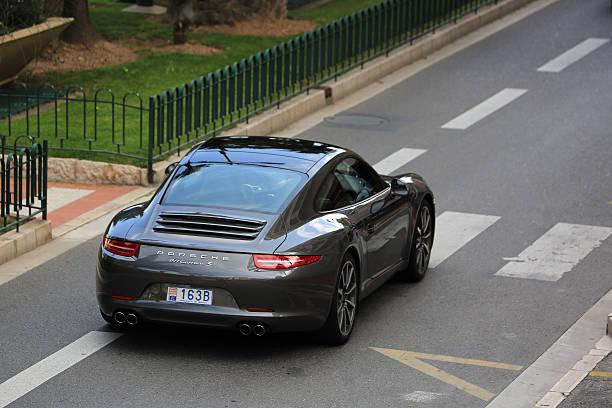porsche: (150, 246, 236, 264)
